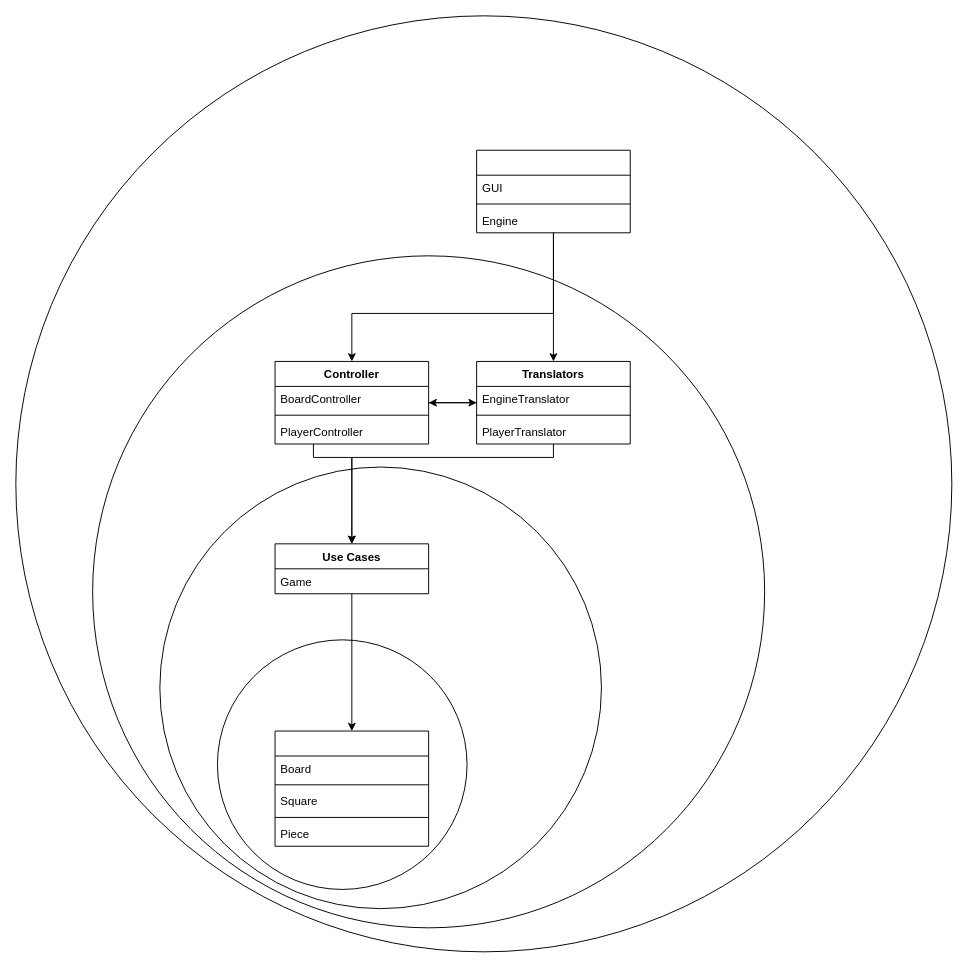
Some shapes in this 968 by 968 pixel diagram are drawn without their labels. The box of each missing label's shape, as (x1, y1, x2, y2) in pixels:
Entities: (274, 730, 429, 846)
Plugins: (476, 149, 630, 233)
